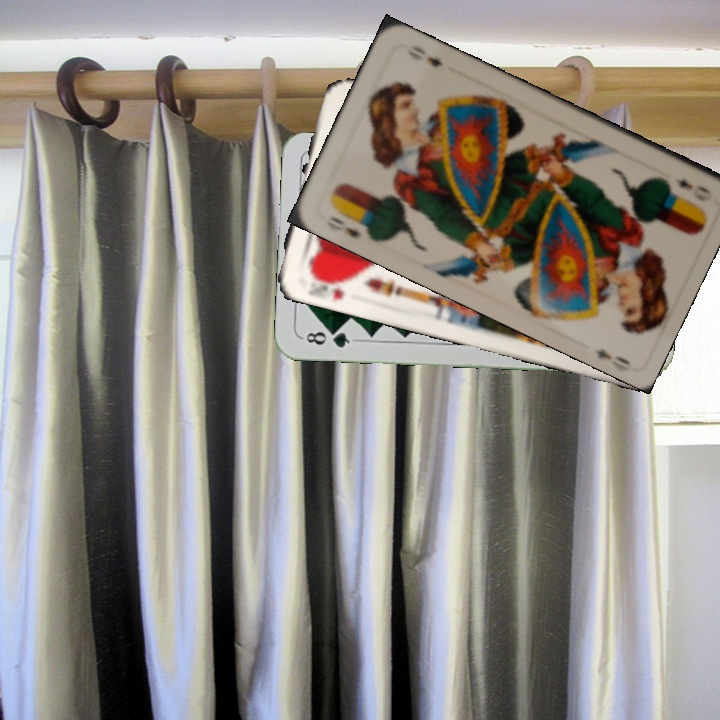EO: (325, 202, 374, 241), (670, 174, 715, 205)
G8: (299, 326, 358, 350)
HK: (306, 268, 347, 303)
